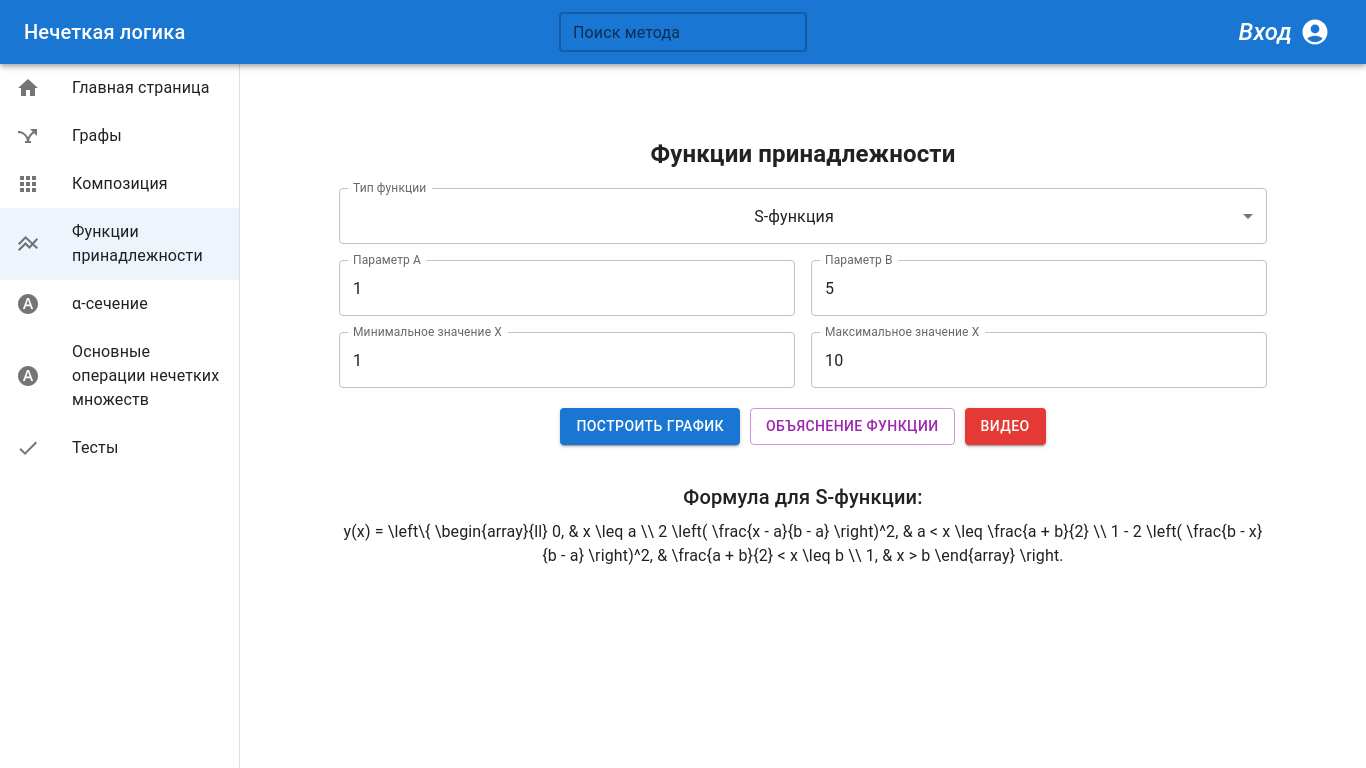
Test: Тестирование функций принадлежности › Строит график при нажатии кнопки
This screenshot has width=1366, height=768.
Click the button "Построить график". click: (650, 427)
box: [560,408,740,445]
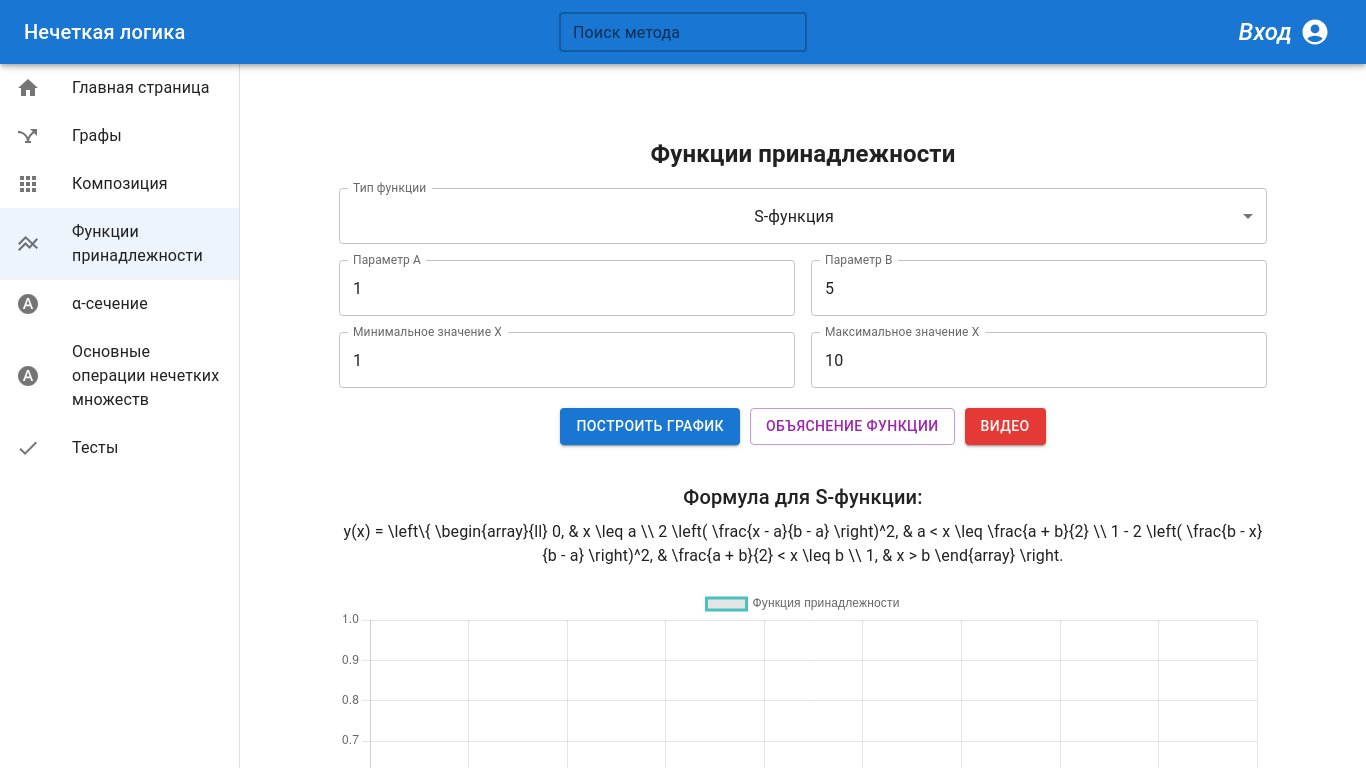
expect the picture is shown: met, box [339,588,1267,767]
